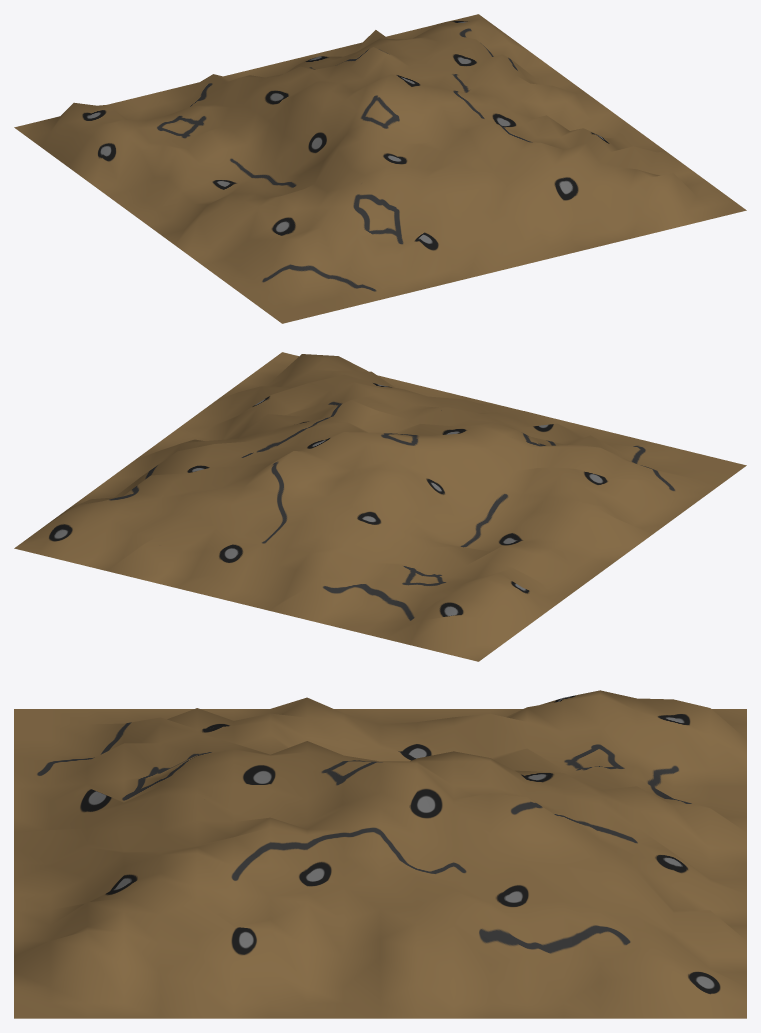
The model's file is puin.fbx.
3 renders of one model, top to bottom at view 1: azimuth 30°, elevation 25°; view 2: azimuth 150°, elevation 25°; view 3: azimuth 270°, elevation 25°, orthographic. The views are drawn at different scales.
Visible parts, largest first — view 1: pPlane5; view 2: pPlane5; view 3: pPlane5.
Boxes of the visible parts, <box> form: pPlane5: <box>14,14,746,323</box>; pPlane5: <box>14,352,746,661</box>; pPlane5: <box>14,690,746,1018</box>.
Bounding box in the file's own units: 5 × 0.8131 × 5.
Materials: 1 (1 with a texture image).
